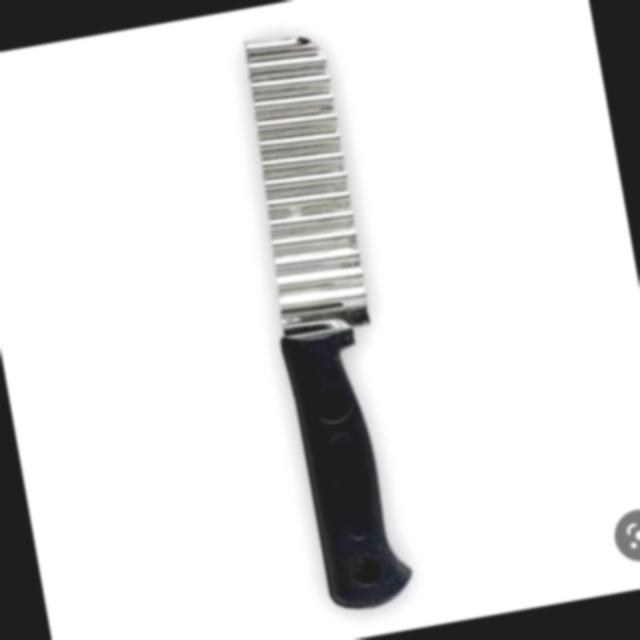knife: (156, 11, 464, 633)
